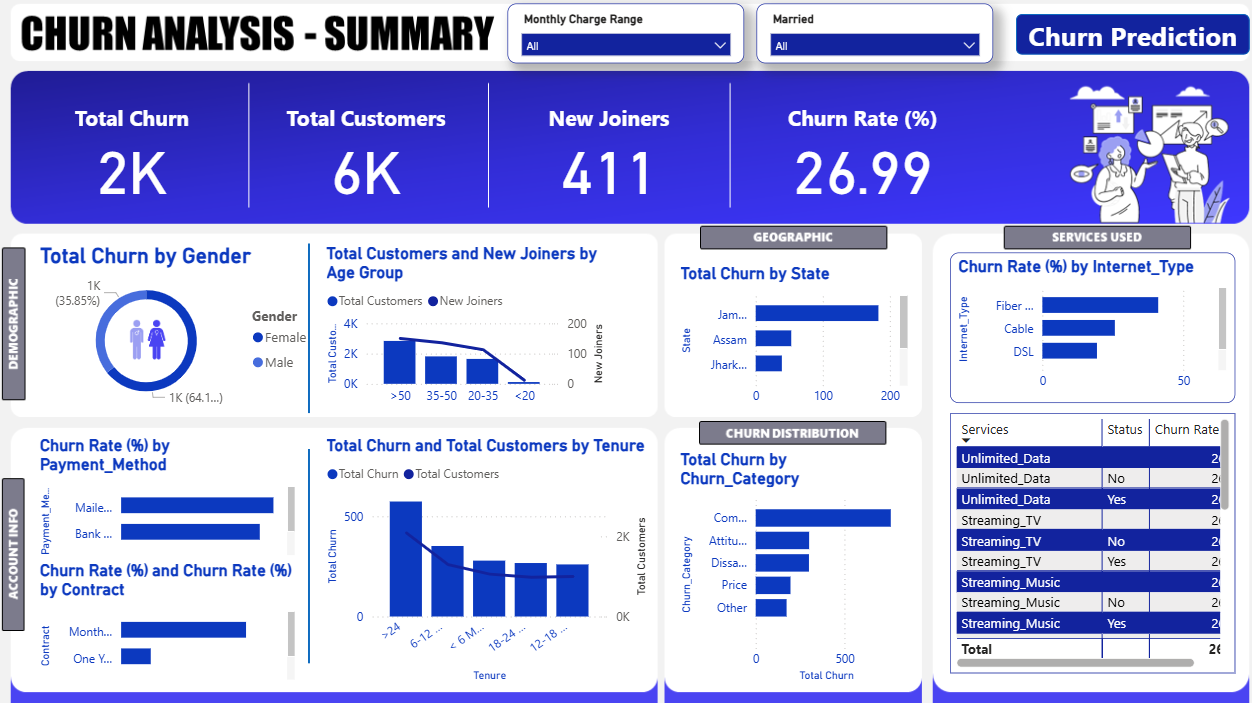

The page's visual inventory and layout, read from the dashboard file:
{"tool":"powerbi","page":{"name":"Summery","canvas":[1280,720],"ordinal":0},"visuals":[{"type":"cardVisual","fields":{"Data":["Table.Total Churn"]},"box":[22.7,90.7,224.9,120.9],"z":0},{"type":"cardVisual","fields":{"Data":["Table.Total Customer"]},"box":[260.8,90.7,224.9,120.9],"z":1000},{"type":"cardVisual","fields":{"Data":["Table.New Joiners"]},"box":[506.5,90.7,224.9,120.9],"z":2000},{"type":"cardVisual","fields":{"Data":["Table.Churn Rate11"]},"box":[755.9,90.7,240,120.9],"z":3000},{"type":"donutChart","fields":{"Category":["db_churn customer_data.Gender"],"Y":["Table.Total Churn"]},"box":[35.9,251.3,291,172],"z":4000},{"type":"shape","box":[168.2,251.3,291,172],"z":5000},{"type":"lineClusteredColumnComboChart","fields":{"Category":["AgeGrp.Age Group"],"Y":["Table.Total Customer"],"Y2":["Table.New Joiners"]},"box":[326.9,251.3,291,172],"z":6000},{"type":"barChart","fields":{"Category":["db_churn customer_data.Payment_Method"],"Y":["Table.Churn Rate (%)"]},"box":[35.9,446,268.3,126.6],"z":7000},{"type":"barChart","fields":{"Category":["db_churn customer_data.Contract"],"Y":["Table.Churn Rate"]},"box":[35.9,572.6,268.3,126.6],"z":8000},{"type":"shape","box":[168.2,459.2,291,217.3],"z":9000},{"type":"lineStackedColumnComboChart","fields":{"Category":["TenureGrp.Tenure"],"Y2":["Table.Total Customer"],"Y":["Table.Total Churn"]},"box":[326.9,446,334.5,253.2],"z":10000},{"type":"barChart","fields":{"Category":["db_churn customer_data.State"],"Y":["Table.Total Churn"]},"box":[686,270.2,240,153.1],"z":11000},{"type":"barChart","fields":{"Y":["Table.Total Churn"],"Category":["db_churn customer_data.Churn_Category"]},"box":[686,459.2,240,240],"z":12000},{"type":"barChart","fields":{"Category":["db_churn customer_data.Internet_Type"],"Y":["Table.Churn Rate (%)"]},"box":[963.9,260.9,289.5,152.7],"z":13000},{"type":"tableEx","fields":{"Values":["Internet_service.Services","Internet_service.Status","Table.Churn Rate"]},"box":[963.9,423.1,289.5,264],"z":14000},{"type":"slicer","fields":{"Values":["db_churn customer_data.Monthly Charge Status"]},"box":[515.4,8,240.2,60.4],"z":15000},{"type":"slicer","fields":{"Values":["db_churn customer_data.Married"]},"box":[768.3,8,240.2,60.4],"z":16000},{"type":"image","box":[105,316.5,92.3,62],"z":17000},{"type":"shape","box":[1030.7,17.5,237,41.4],"z":17001}]}

Visuals, with their boxes in screenshot pixels (x1, y1, x2, y2), scaled from the page's 1280x720 canvas onto the 1252x704 screenshot:
cardVisual - Table.Total Churn: 22:89:242:207
cardVisual - Table.Total Customer: 255:89:475:207
cardVisual - Table.New Joiners: 495:89:715:207
cardVisual - Table.Churn Rate11: 739:89:974:207
donutChart - db_churn customer_data.Gender x Table.Total Churn: 35:246:320:414
shape: 165:246:449:414
lineClusteredColumnComboChart - AgeGrp.Age Group x Table.Total Customer: 320:246:604:414
barChart - db_churn customer_data.Payment_Method x Table.Churn Rate (%): 35:436:298:560
barChart - db_churn customer_data.Contract x Table.Churn Rate: 35:560:298:684
shape: 165:449:449:661
lineStackedColumnComboChart - TenureGrp.Tenure x Table.Total Customer: 320:436:647:684
barChart - db_churn customer_data.State x Table.Total Churn: 671:264:906:414
barChart - Table.Total Churn x db_churn customer_data.Churn_Category: 671:449:906:684
barChart - db_churn customer_data.Internet_Type x Table.Churn Rate (%): 943:255:1226:404
tableEx - Internet_service.Services x Internet_service.Status: 943:414:1226:672
slicer - db_churn customer_data.Monthly Charge Status: 504:8:739:67
slicer - db_churn customer_data.Married: 751:8:986:67
image: 103:309:193:370
shape: 1008:17:1240:58
